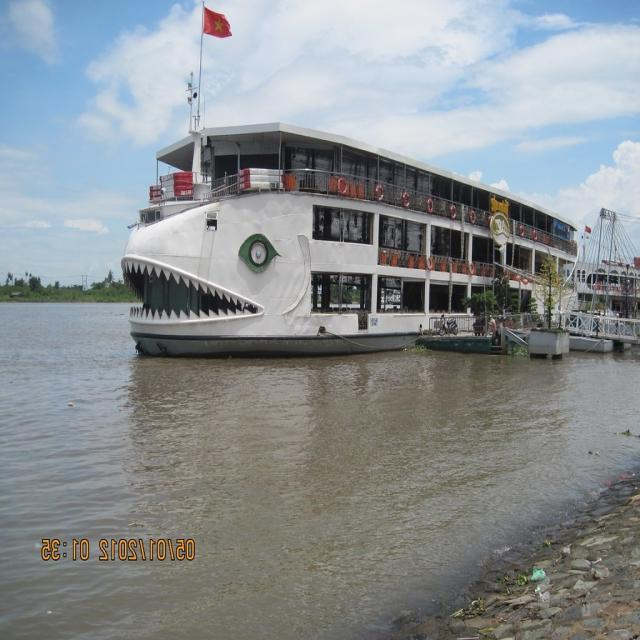Hyacinth: (512, 344, 530, 357)
boat: (125, 120, 581, 364), (406, 328, 508, 352)
